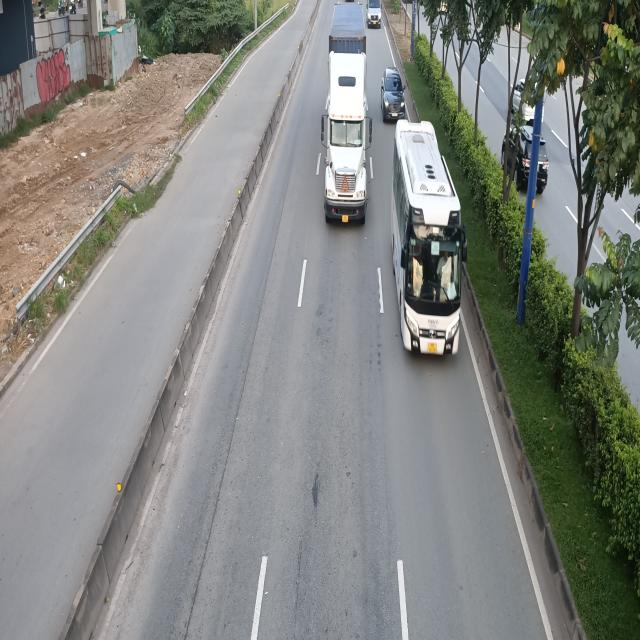car: (381, 68, 407, 122)
coach: (391, 118, 467, 358)
container: (321, 9, 372, 229)
van: (367, 0, 382, 30)
